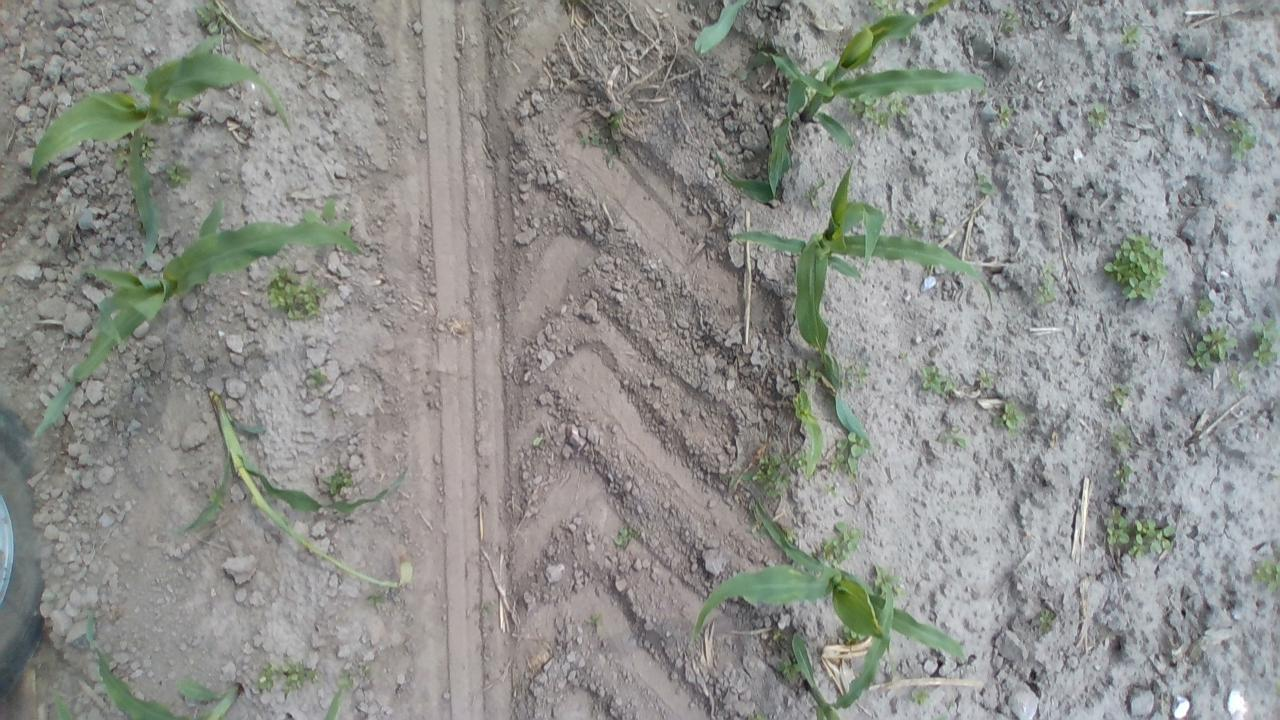Maize: (25, 193, 362, 448), (724, 154, 1003, 444), (27, 37, 300, 250), (719, 0, 990, 213), (685, 494, 976, 682), (167, 380, 414, 578), (74, 613, 252, 718), (786, 567, 901, 720), (692, 0, 754, 58), (790, 382, 824, 468), (277, 683, 352, 720)
Weeds: (1102, 232, 1168, 304), (1102, 508, 1176, 560), (266, 268, 330, 322), (1186, 322, 1236, 372), (256, 658, 320, 694), (832, 428, 872, 481), (751, 451, 793, 496), (578, 114, 622, 156), (820, 522, 864, 564), (1250, 314, 1280, 374), (850, 96, 893, 133), (304, 204, 356, 232), (1226, 118, 1258, 162), (194, 0, 230, 34), (918, 362, 952, 398), (871, 563, 903, 600), (1032, 264, 1060, 304), (1251, 558, 1280, 596), (159, 159, 193, 189), (994, 400, 1023, 434), (842, 362, 873, 390), (1084, 99, 1110, 130), (324, 465, 350, 496), (1104, 380, 1132, 407), (134, 132, 158, 162), (974, 170, 998, 200), (1112, 424, 1134, 455), (774, 655, 800, 681), (1117, 22, 1143, 48), (1112, 460, 1134, 490), (943, 423, 969, 448), (612, 526, 638, 550), (468, 600, 499, 620), (999, 9, 1024, 33), (794, 361, 820, 384), (807, 180, 827, 208), (1037, 607, 1057, 635), (888, 95, 909, 121), (838, 626, 868, 644), (995, 101, 1015, 128), (398, 559, 417, 587), (1194, 294, 1216, 318), (306, 366, 330, 388), (975, 367, 998, 389), (584, 611, 606, 634), (872, 0, 904, 15), (906, 688, 932, 706), (368, 587, 390, 608), (335, 668, 356, 690), (768, 627, 788, 650), (819, 480, 842, 500), (358, 660, 378, 682), (1228, 366, 1246, 390), (782, 522, 799, 545), (904, 216, 924, 234), (792, 452, 806, 474), (532, 433, 548, 452), (1192, 121, 1208, 139), (748, 520, 764, 536), (751, 709, 769, 719)
